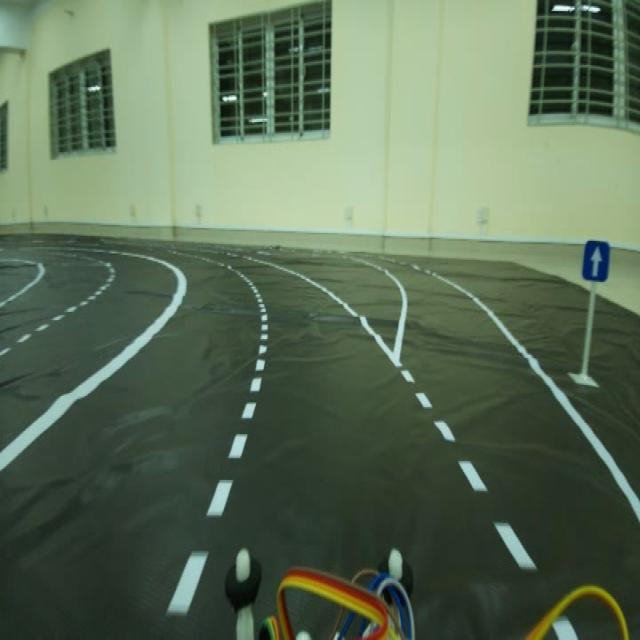onewayroad: (576, 222, 614, 291)
